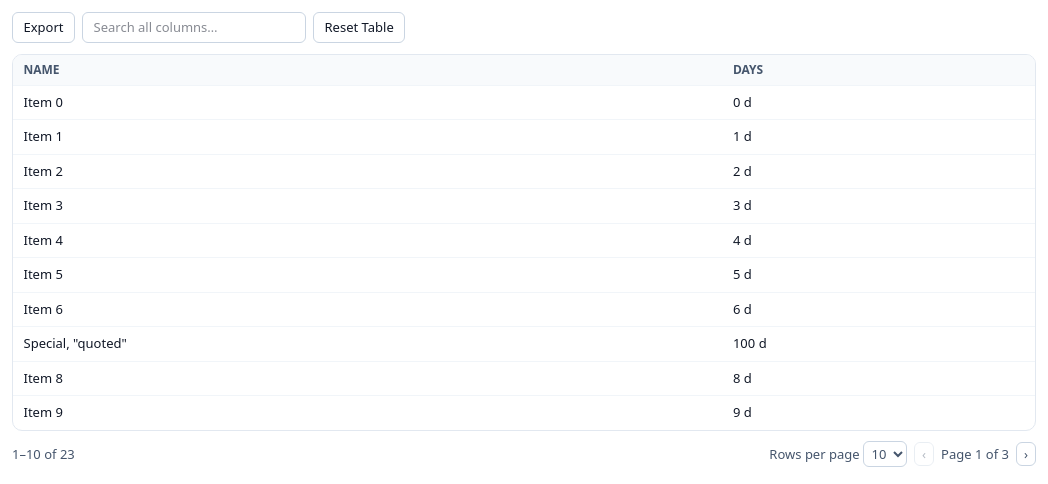
Test: F16-FR-07: pages of 10 by default, with the range, page count and next/previous
The width and height of the screenshot is (1048, 484).
Expected: the text with test id "page-summary" reads "1–10 of 23", [12,444,75,463]
Expected: the text "Page 1 of 3" is shown, [941,444,1009,463]
Click the button named "Next page": (1026,454) [1016,442,1036,466]
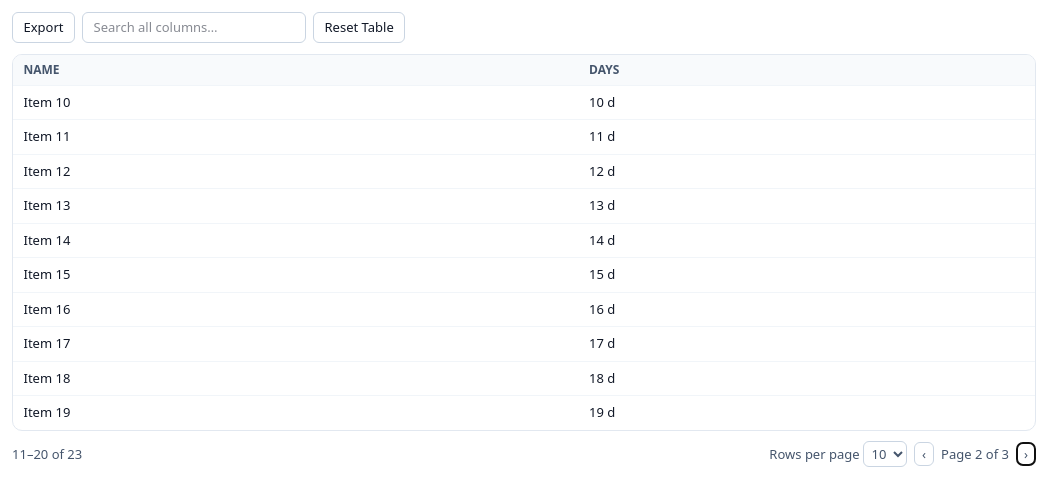
Click the button named "Next page": (1026,454) [1016,442,1036,466]
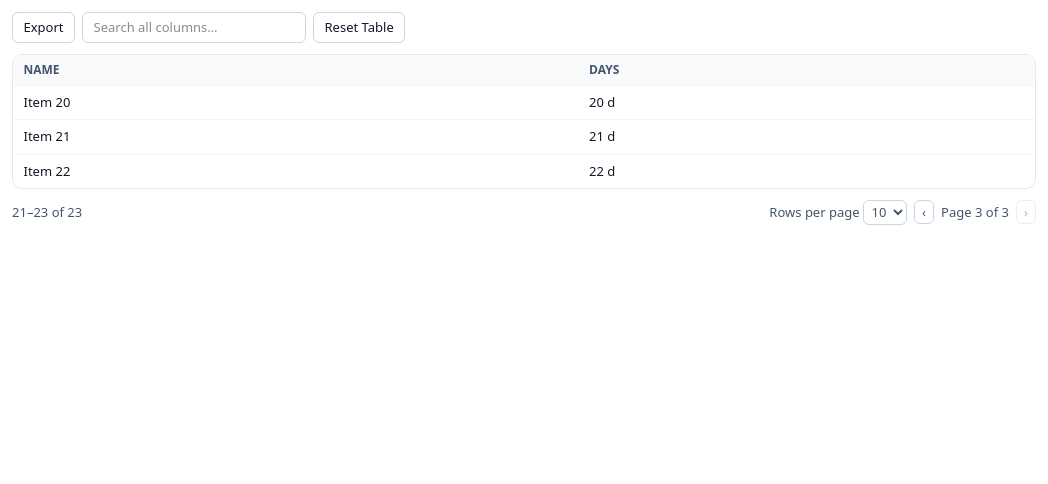
Expected: the text with test id "page-summary" reads "21–23 of 23", [12,203,82,222]
Expected: the number of rows with test id "window-row" is 3, [13,85,1035,120]; [13,120,1035,154]; [13,154,1035,188]
Expected: the button named "Next page" is disabled, [1016,200,1036,224]
